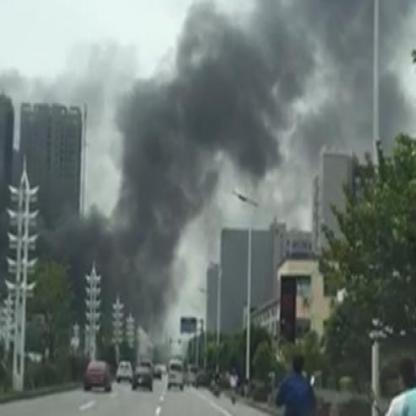smoke: (106, 48, 274, 204), (65, 204, 174, 326), (279, 56, 405, 154), (182, 0, 408, 53)
